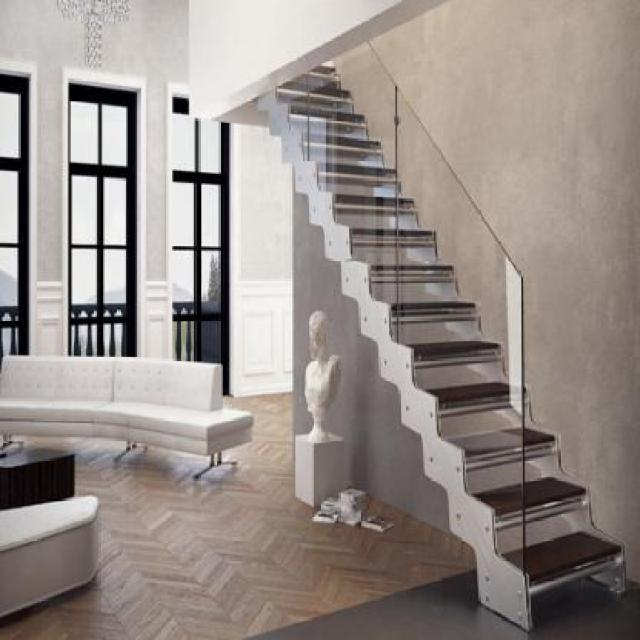stair: (260, 53, 637, 639)
